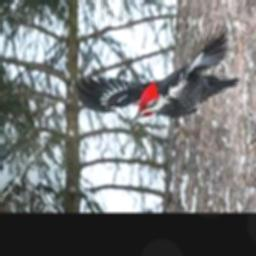Woodpecker: (69, 23, 238, 123)
